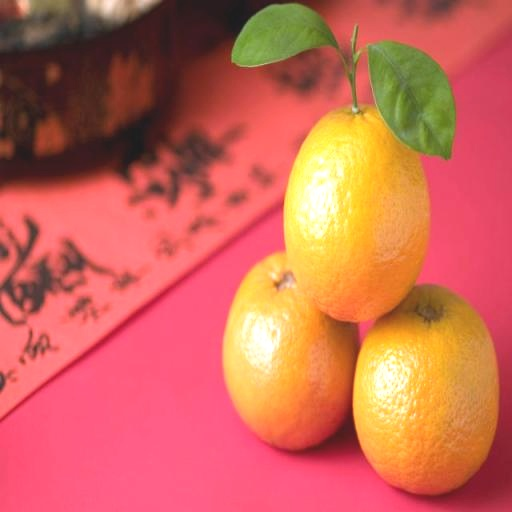fruit: (284, 106, 428, 321), (352, 285, 497, 494), (223, 253, 356, 450)
